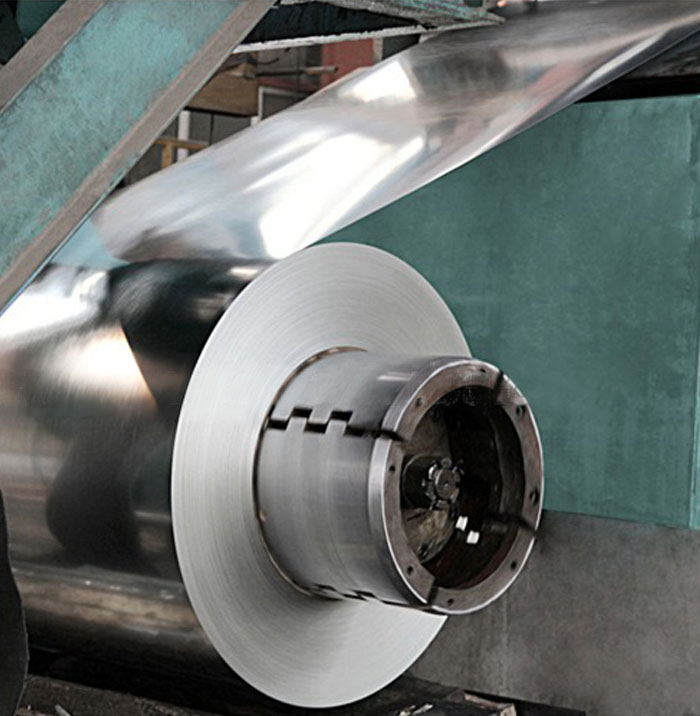steel-coil: (91, 154, 587, 596)
